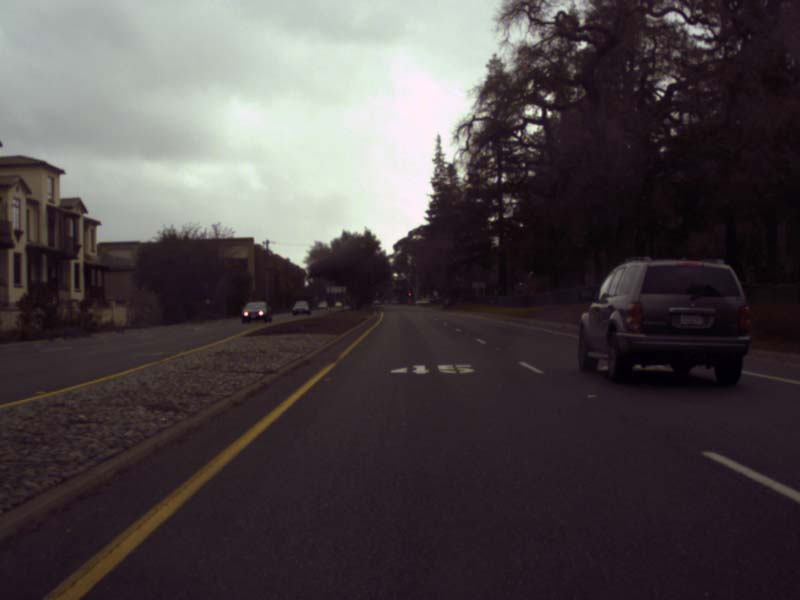Red: (407, 290, 411, 299), (393, 284, 396, 291), (376, 291, 379, 296)
